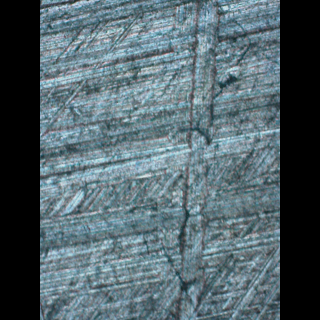d: (171, 0, 253, 319), (40, 0, 146, 140)
